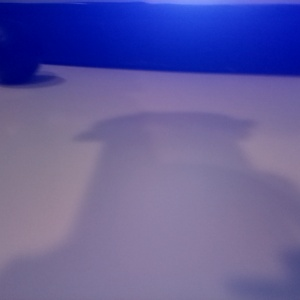alive_ball: (1, 26, 91, 122)
dead_ball: (98, 56, 264, 224)
